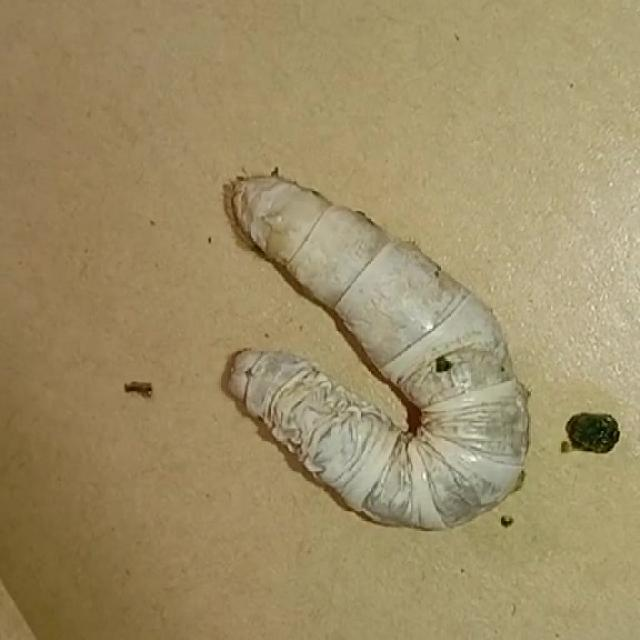Grasserie: (200, 124, 546, 561)
